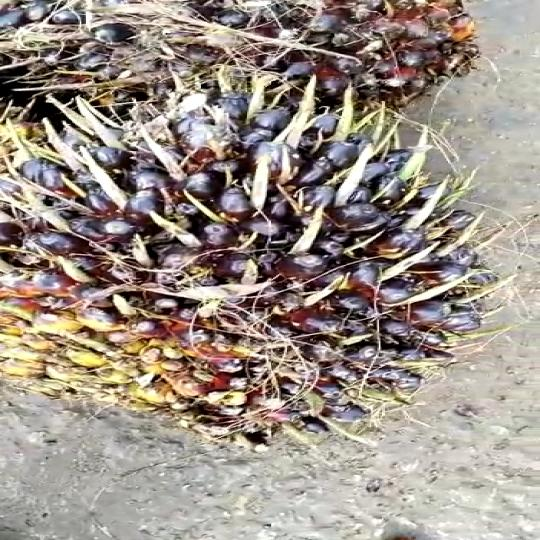mentah: (0, 71, 512, 456)
